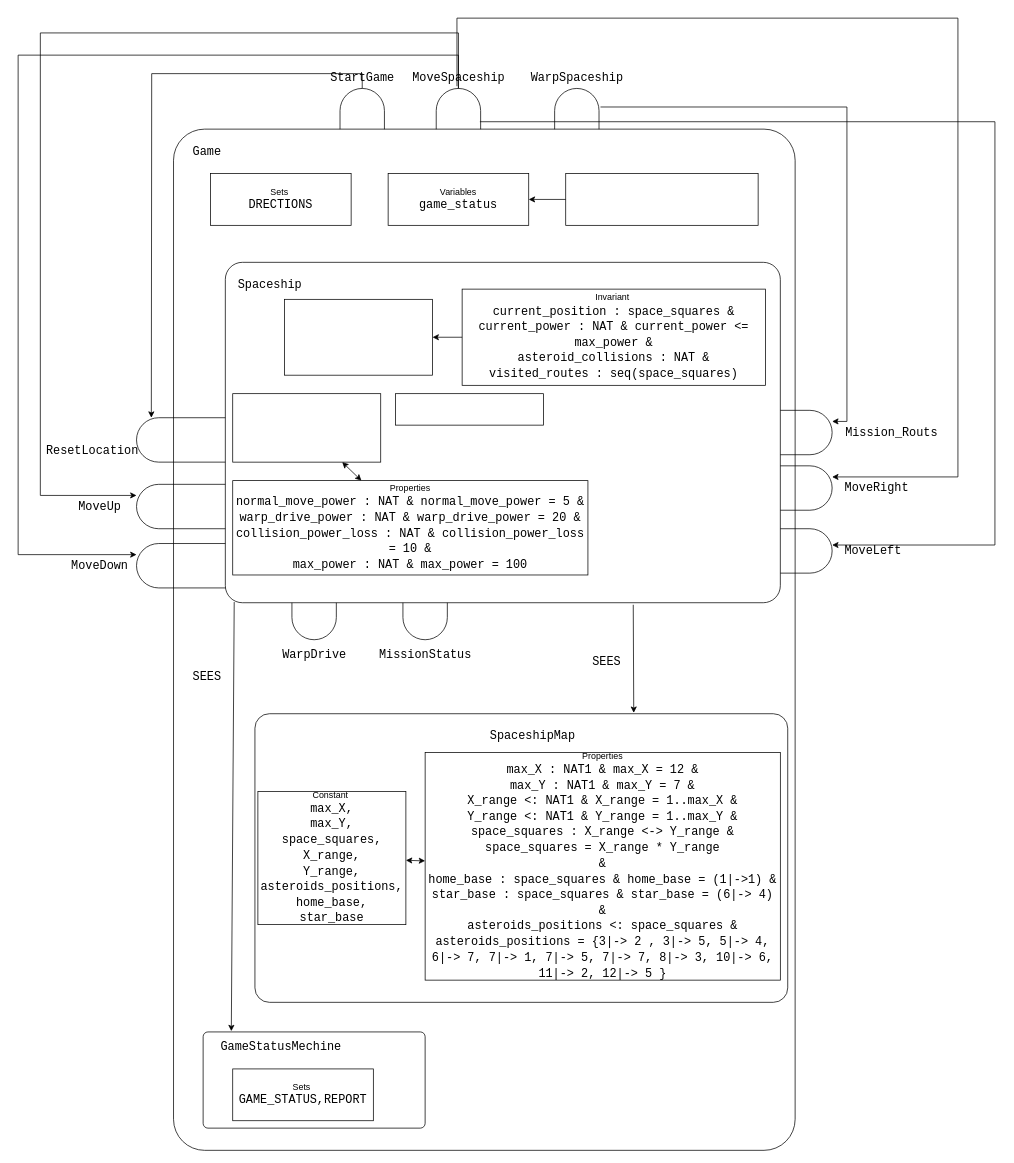
The diagram is 1014 pixels wide and 1163 high, and some of its shapes have lost their labels. The centre of each missing label's shape, as x and y in pixels:
Constant normal_move_power, warp_drive_power, collision_power_loss, max_power: (306,427)
Invariant game_status : GAME_STATUS: (661,199)
Sets Lables: (469,409)
Variables current_position, current_power, asteroid_collisions, visited_routes: (358,337)
